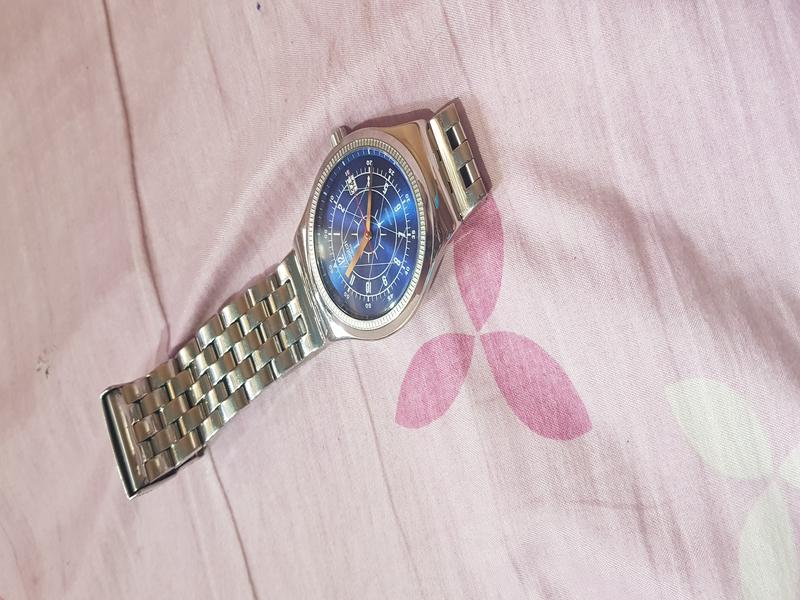watch: (64, 79, 531, 505)
